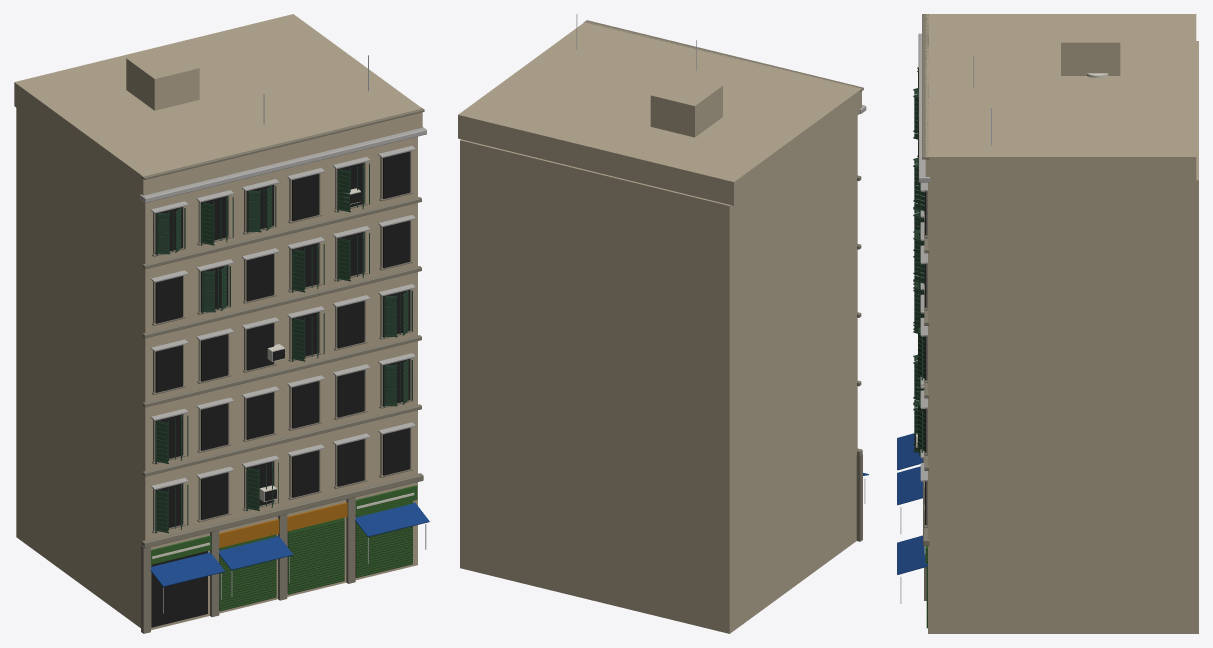
The model's file is KIT_BLDG_F.glb.
The picture shows the model from 3 angles, left to right: view 1: azimuth 30°, elevation 25°; view 2: azimuth 150°, elevation 25°; view 3: azimuth 270°, elevation 25°; orthographic projection. The views are drawn at different scales.
Parts seen in each view (by area): view 1: KIT_BLDG_F; view 2: KIT_BLDG_F; view 3: KIT_BLDG_F.
Part boxes in pixels (x1,y1,x2,y2): KIT_BLDG_F: [14, 14, 429, 633]; KIT_BLDG_F: [458, 14, 868, 633]; KIT_BLDG_F: [897, 14, 1198, 633].
Bounding box in the file's own units: 13.24 × 22.08 × 11.7.
